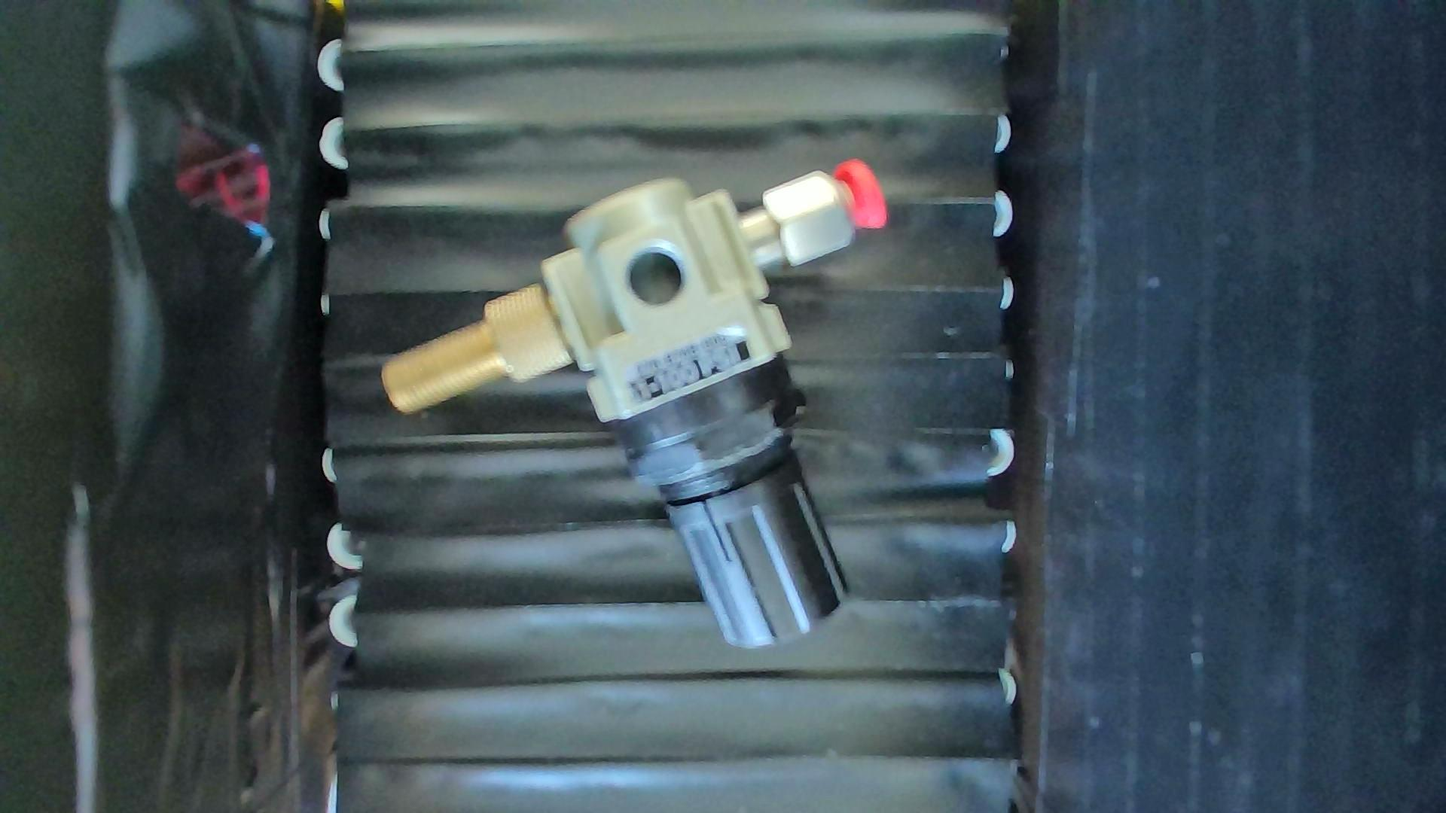regulator: (380, 159, 887, 650)
